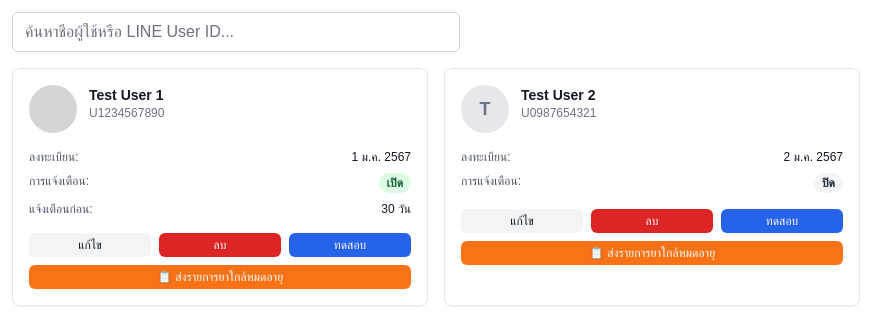
Scenario: LineUserList › Search Functionality (Requirement 3.4) › should filter users by display name
The width and height of the screenshot is (877, 323).
Type "User 1" into the field with placeholder "ค้นหาชื่อผู้ใช้หรือ LINE User ID..." at [236, 32], box [12,12,460,52]
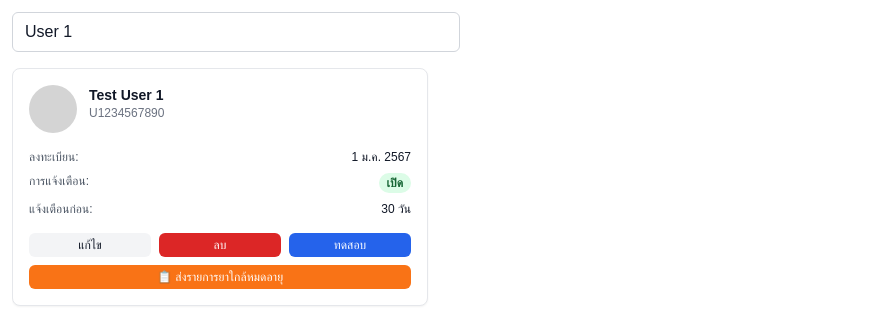
Check: the heading "Test User 1" is shown, box [89,87,164,103]
Check: the heading "Test User 2" is gone
